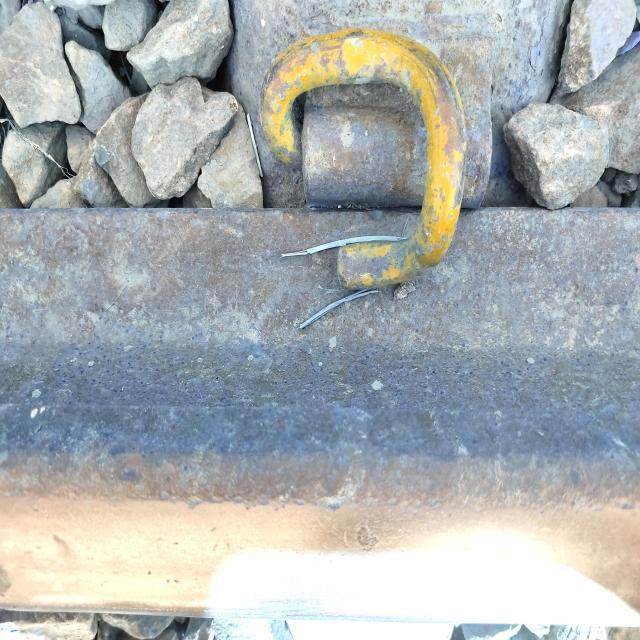Good Fasteners: (251, 11, 519, 332)
